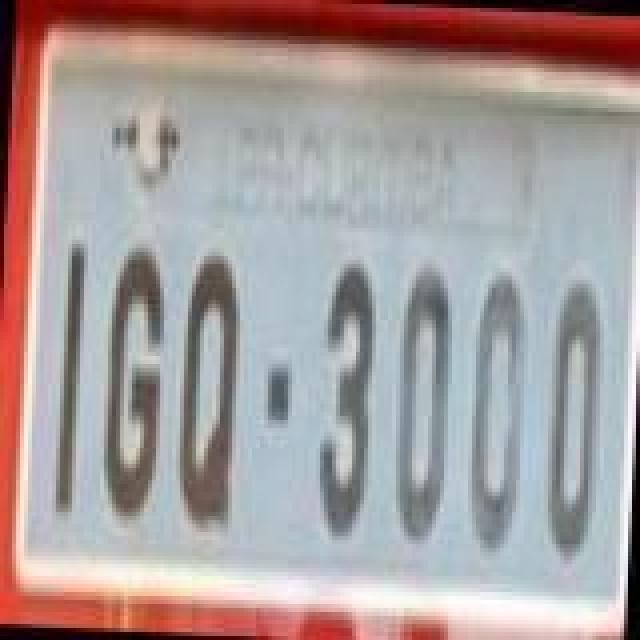1: (52, 234, 92, 518)
3: (308, 256, 380, 544)
G: (98, 234, 174, 518)
O: (388, 254, 460, 546), (460, 266, 532, 558), (542, 270, 610, 562)
Q: (172, 244, 244, 540)
